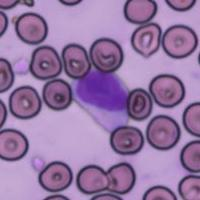L: (70, 68, 130, 133)
